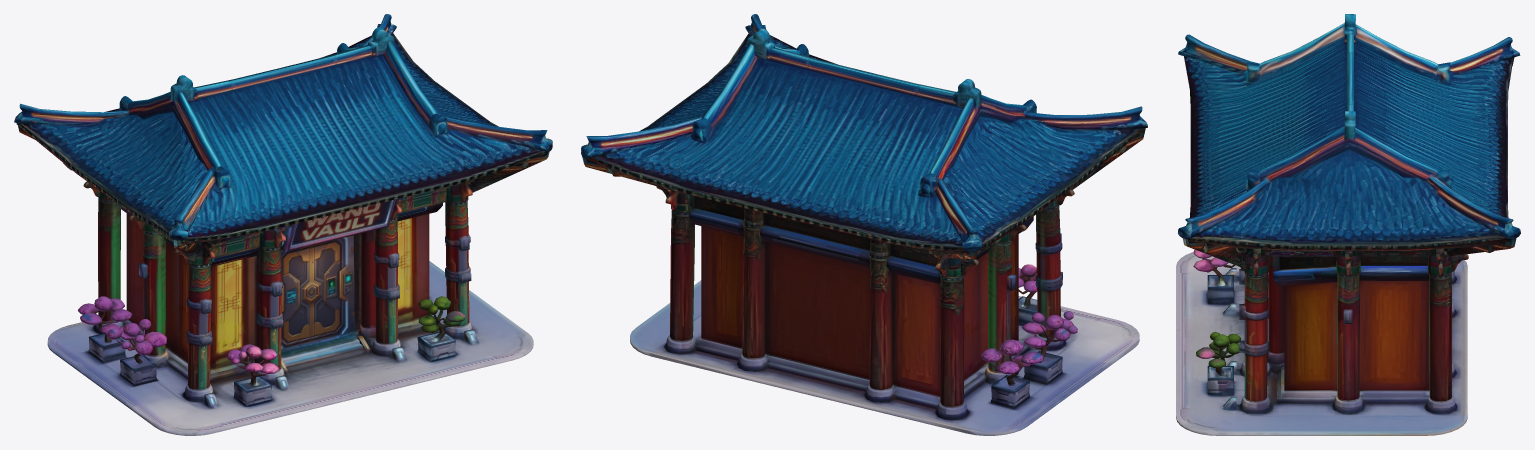
The model's file is wano_vault.glb.
3 views of the same model, side by side, from view 1: azimuth 30°, elevation 25°; view 2: azimuth 150°, elevation 25°; view 3: azimuth 270°, elevation 25° (orthographic). The views are drawn at different scales.
Visible parts, largest first — view 1: tripo_node_15f88955; view 2: tripo_node_15f88955; view 3: tripo_node_15f88955.
Part boxes in pixels (bbox=[...]): tripo_node_15f88955: bbox=[14, 14, 552, 435]; tripo_node_15f88955: bbox=[581, 14, 1147, 435]; tripo_node_15f88955: bbox=[1176, 14, 1520, 435].
Bounding box in the file's own units: 0.9995 × 0.7046 × 0.7661.
1 material, 1 textured.
